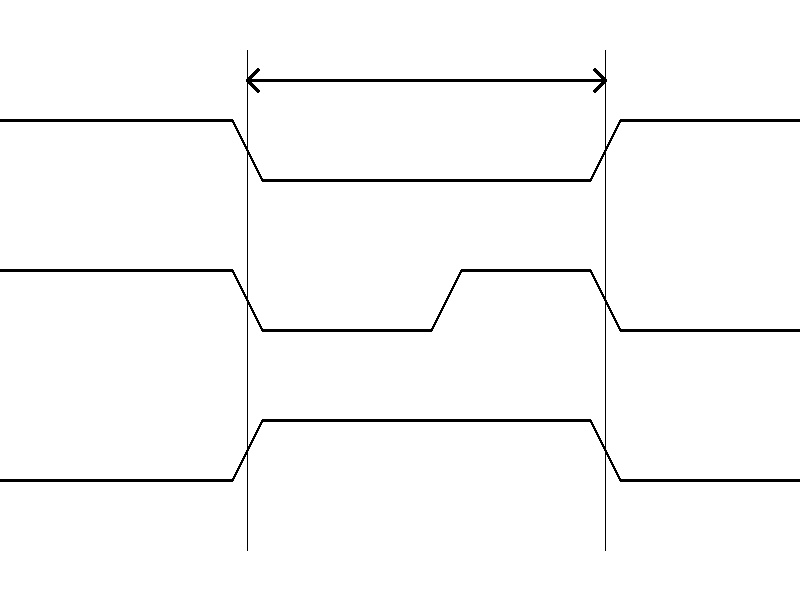double_arrow: (247, 65, 605, 95)
